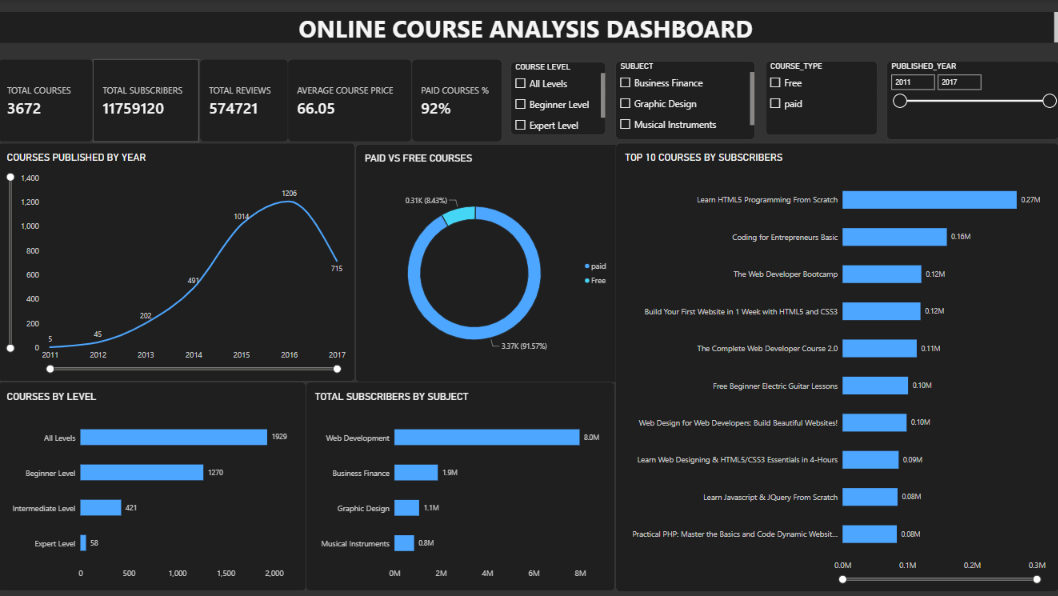

What the dashboard file says about the page in this screenshot:
{"tool":"powerbi","page":{"name":"Page 1","canvas":[1920,1080],"ordinal":0},"visuals":[{"type":"cardVisual","fields":{"Data":["CLEANED DATA.TOTAL COURSES"]},"box":[0,107.5,173.3,150],"z":0},{"type":"cardVisual","fields":{"Data":["CLEANED DATA.TOTAL SUBSCRIBERS"]},"box":[172.5,107.5,193.3,150],"z":1000},{"type":"cardVisual","fields":{"Data":["CLEANED DATA.TOTAL REVIEWS"]},"box":[365,107.5,161,150],"z":2000},{"type":"cardVisual","fields":{"Data":["CLEANED DATA.AVERAGE COURSE PRICE"]},"box":[525,107.5,225,150],"z":3000},{"type":"slicer","title":"COURSE LEVEL","fields":{"Values":["CLEANED DATA.LEVEL"]},"box":[928,112,172,132],"z":4000},{"type":"cardVisual","fields":{"Data":["CLEANED DATA.PAID COURSES %"]},"box":[750,107.5,164.3,150],"z":5000},{"type":"lineChart","title":"COURSES PUBLISHED BY YEAR","fields":{"Category":["CLEANED DATA.PUBLISHED_YEAR"],"Y":["CountNonNull(CLEANED DATA.COURSE_ID)"]},"box":[0,258,647.1,431.4],"z":6000},{"type":"donutChart","title":"PAID VS FREE COURSES","fields":{"Category":["CLEANED DATA.COURSE_TYPE"],"Y":["CountNonNull(CLEANED DATA.COURSE_TYPE)"]},"box":[648,260,480,432],"z":7000},{"type":"barChart","title":"COURSES BY LEVEL","fields":{"Category":["CLEANED DATA.LEVEL"],"Y":["CountNonNull(CLEANED DATA.COURSE_ID)"]},"box":[0,692,558,378],"z":8000},{"type":"barChart","title":"TOTAL SUBSCRIBERS BY SUBJECT","fields":{"Category":["CLEANED DATA.SUBJECT"],"Y":["Sum(CLEANED DATA.NUM_SUBSCRIBERS)"]},"box":[558,692,560,378.6],"z":9000},{"type":"barChart","title":"TOP 10 COURSES BY SUBSCRIBERS","fields":{"Category":["CLEANED DATA.COURSE_TITLE"],"Y":["Sum(CLEANED DATA.NUM_SUBSCRIBERS)"]},"box":[1118,258,802,812],"z":10000},{"type":"textbox","box":[0,22,1920,56],"z":11000},{"type":"slicer","fields":{"Values":["CLEANED DATA.SUBJECT"]},"box":[1118,110,252,142],"z":12000},{"type":"slicer","fields":{"Values":["CLEANED DATA.COURSE_TYPE"]},"box":[1390,110,202,134],"z":13000},{"type":"slicer","fields":{"Values":["CLEANED DATA.PUBLISHED_YEAR"]},"box":[1608,110,312,142],"z":14000}]}

Visuals, with their boxes in screenshot pixels (x1, y1, x2, y2), scaled from the page's 1920x1080 canvas onto the 1058x596 screenshot:
cardVisual - CLEANED DATA.TOTAL COURSES: <bbox>0, 59, 95, 142</bbox>
cardVisual - CLEANED DATA.TOTAL SUBSCRIBERS: <bbox>95, 59, 202, 142</bbox>
cardVisual - CLEANED DATA.TOTAL REVIEWS: <bbox>201, 59, 290, 142</bbox>
cardVisual - CLEANED DATA.AVERAGE COURSE PRICE: <bbox>289, 59, 413, 142</bbox>
"COURSE LEVEL" slicer: <bbox>511, 62, 606, 135</bbox>
cardVisual - CLEANED DATA.PAID COURSES %: <bbox>413, 59, 504, 142</bbox>
"COURSES PUBLISHED BY YEAR" lineChart: <bbox>0, 142, 357, 380</bbox>
"PAID VS FREE COURSES" donutChart: <bbox>357, 143, 622, 382</bbox>
"COURSES BY LEVEL" barChart: <bbox>0, 382, 307, 590</bbox>
"TOTAL SUBSCRIBERS BY SUBJECT" barChart: <bbox>307, 382, 616, 591</bbox>
"TOP 10 COURSES BY SUBSCRIBERS" barChart: <bbox>616, 142, 1057, 590</bbox>
textbox: <bbox>0, 12, 1057, 43</bbox>
slicer - CLEANED DATA.SUBJECT: <bbox>616, 61, 755, 139</bbox>
slicer - CLEANED DATA.COURSE_TYPE: <bbox>766, 61, 877, 135</bbox>
slicer - CLEANED DATA.PUBLISHED_YEAR: <bbox>886, 61, 1057, 139</bbox>
